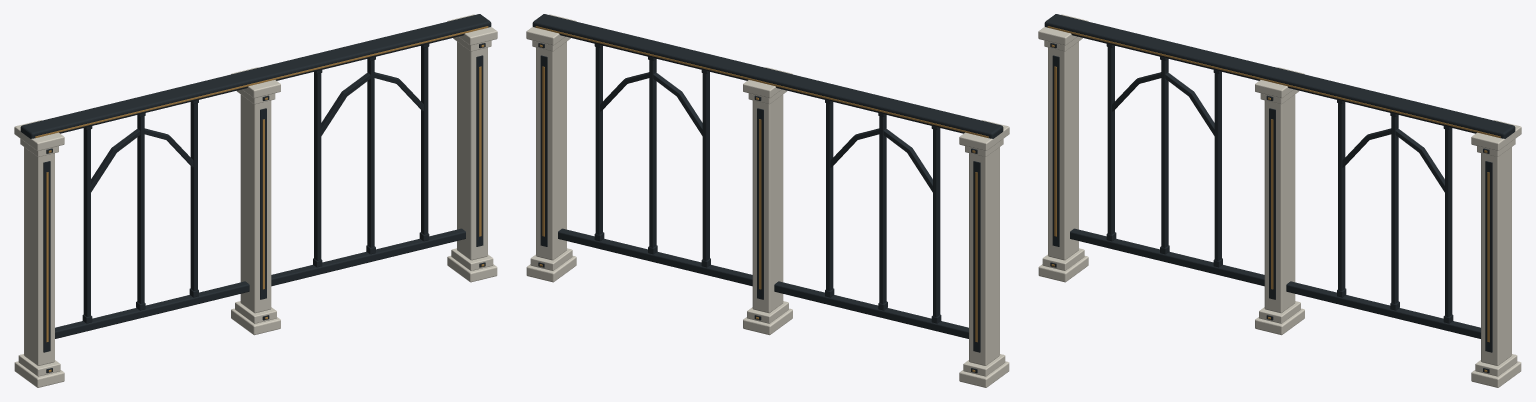
Rendered from SM_Aurelion_KIT_Z10Guardrail_3.fbx.
The picture shows the model from 3 angles, left to right: view 1: azimuth 30°, elevation 25°; view 2: azimuth 150°, elevation 25°; view 3: azimuth 330°, elevation 25°; orthographic projection.
Parts seen in each view (by area): view 1: SM_Aurelion_KIT_Z10Guardrail_3; view 2: SM_Aurelion_KIT_Z10Guardrail_3; view 3: SM_Aurelion_KIT_Z10Guardrail_3.
Part boxes in pixels (x1,y1,x2,y2): SM_Aurelion_KIT_Z10Guardrail_3: [14, 14, 497, 387]; SM_Aurelion_KIT_Z10Guardrail_3: [526, 14, 1009, 387]; SM_Aurelion_KIT_Z10Guardrail_3: [1038, 14, 1521, 387].
Bounding box in the file's own units: 250 × 22 × 130.
